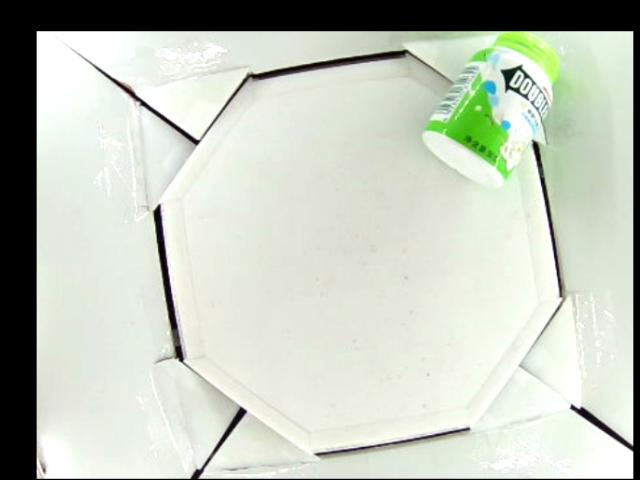Bottle: (420, 32, 561, 184)
